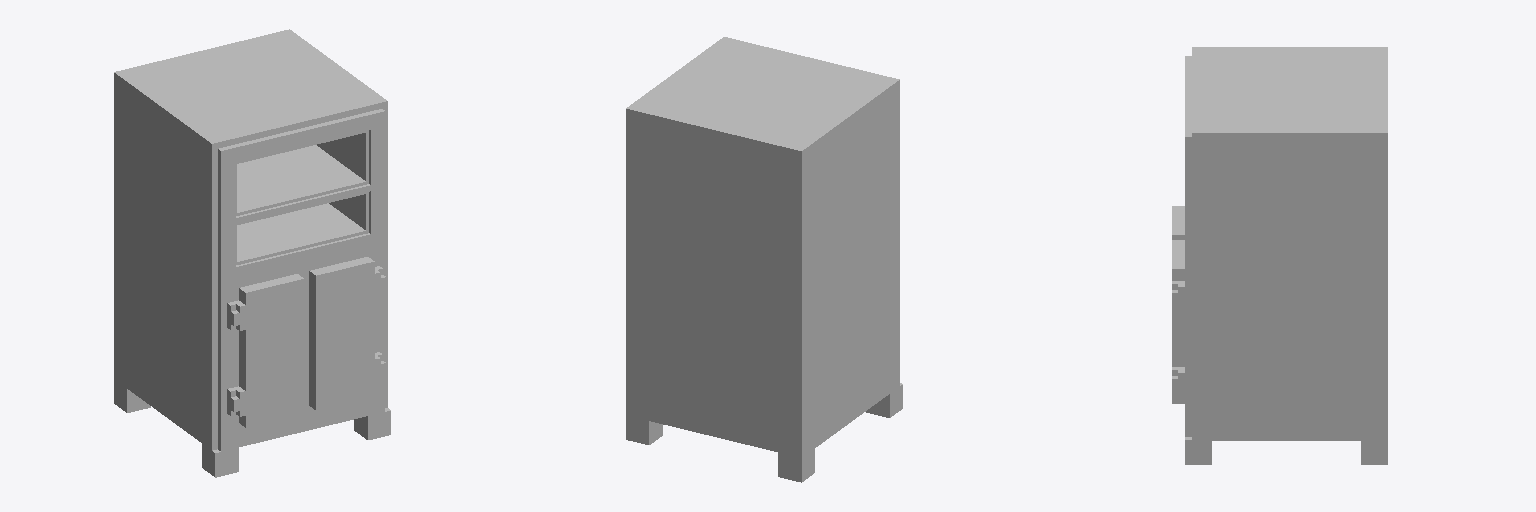
Rendered from cupboard1.obj.
The picture shows the model from 3 angles: view 1: azimuth 30°, elevation 25°; view 2: azimuth 150°, elevation 25°; view 3: azimuth 270°, elevation 25°; orthographic projection.
Parts seen in each view (by area): view 1: cupboard1; view 2: cupboard1; view 3: cupboard1.
Boxes of the visible parts, x1,y1,x2,y2 form: cupboard1: [114, 29, 390, 477]; cupboard1: [626, 37, 902, 482]; cupboard1: [1172, 47, 1387, 464].
Bounding box in the file's own units: 60 × 108 × 64.